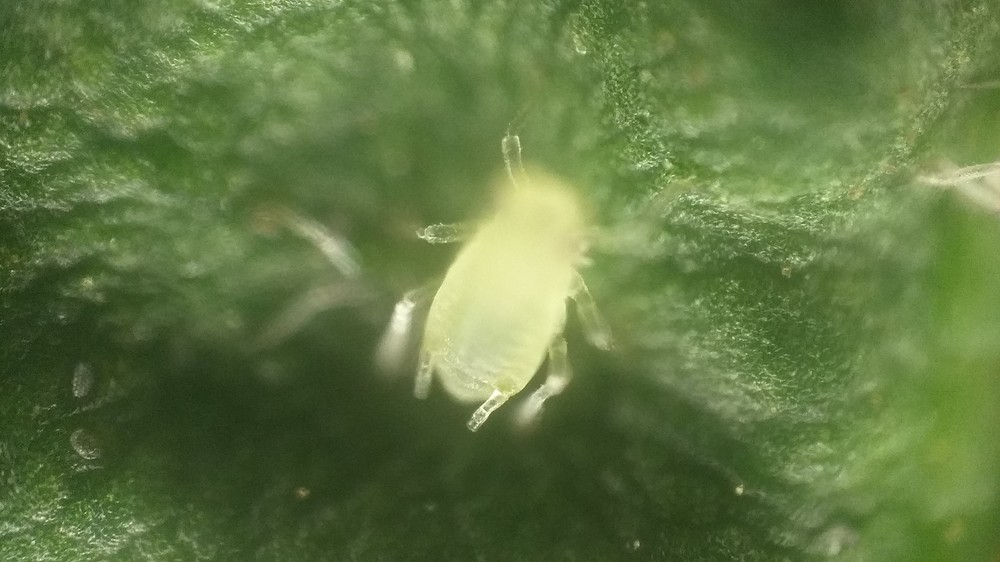Pulgon: (368, 119, 672, 461)
